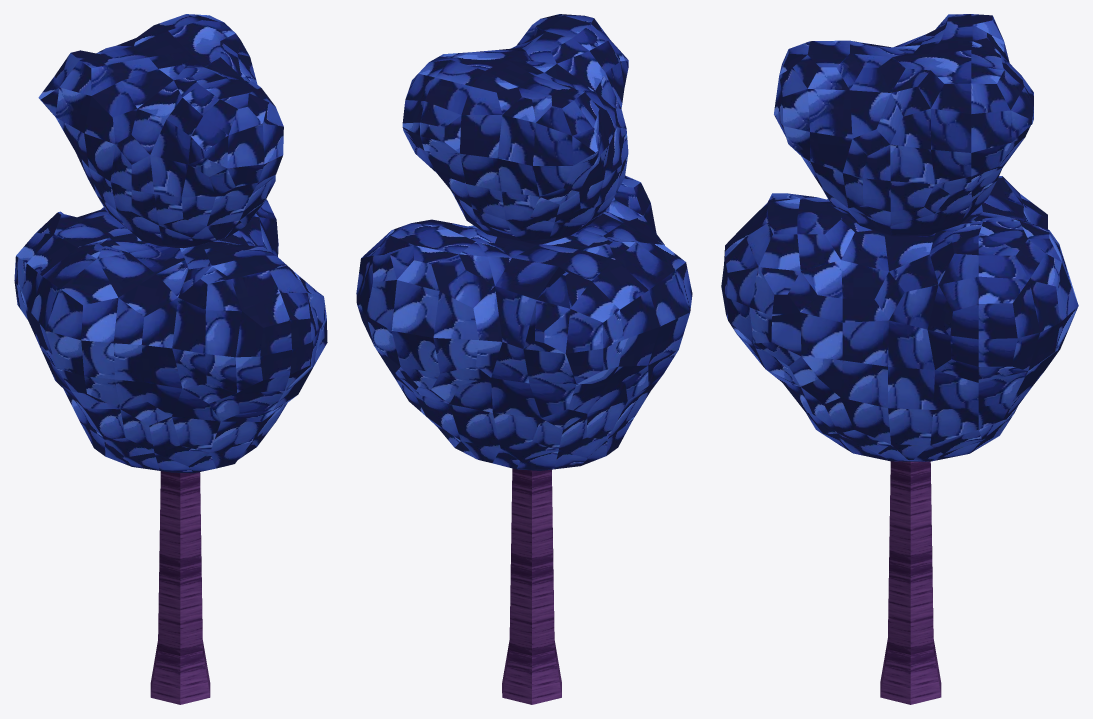
Rendered from biolum_tree.glb.
3 views of the same model, side by side, from view 1: azimuth 30°, elevation 25°; view 2: azimuth 150°, elevation 25°; view 3: azimuth 270°, elevation 25° (orthographic). The views are drawn at different scales.
Parts seen in each view (by area): view 1: biolum_tree_canopy_main, biolum_tree_canopy_upper, biolum_tree_trunk; view 2: biolum_tree_canopy_main, biolum_tree_canopy_upper, biolum_tree_trunk; view 3: biolum_tree_canopy_main, biolum_tree_canopy_upper, biolum_tree_trunk.
Part boxes in pixels (x1,y1,x2,y2): biolum_tree_canopy_main: [14, 199, 327, 473]; biolum_tree_canopy_upper: [38, 14, 283, 248]; biolum_tree_trunk: [150, 471, 210, 704]; biolum_tree_canopy_main: [356, 175, 692, 470]; biolum_tree_canopy_upper: [402, 14, 628, 244]; biolum_tree_trunk: [502, 468, 561, 704]; biolum_tree_canopy_main: [721, 176, 1078, 461]; biolum_tree_canopy_upper: [774, 14, 1033, 236]; biolum_tree_trunk: [880, 461, 941, 704].
Size of the model in its own units: 1.27 by 2.85 by 1.42.
Materials: 2 (2 with a texture image).
